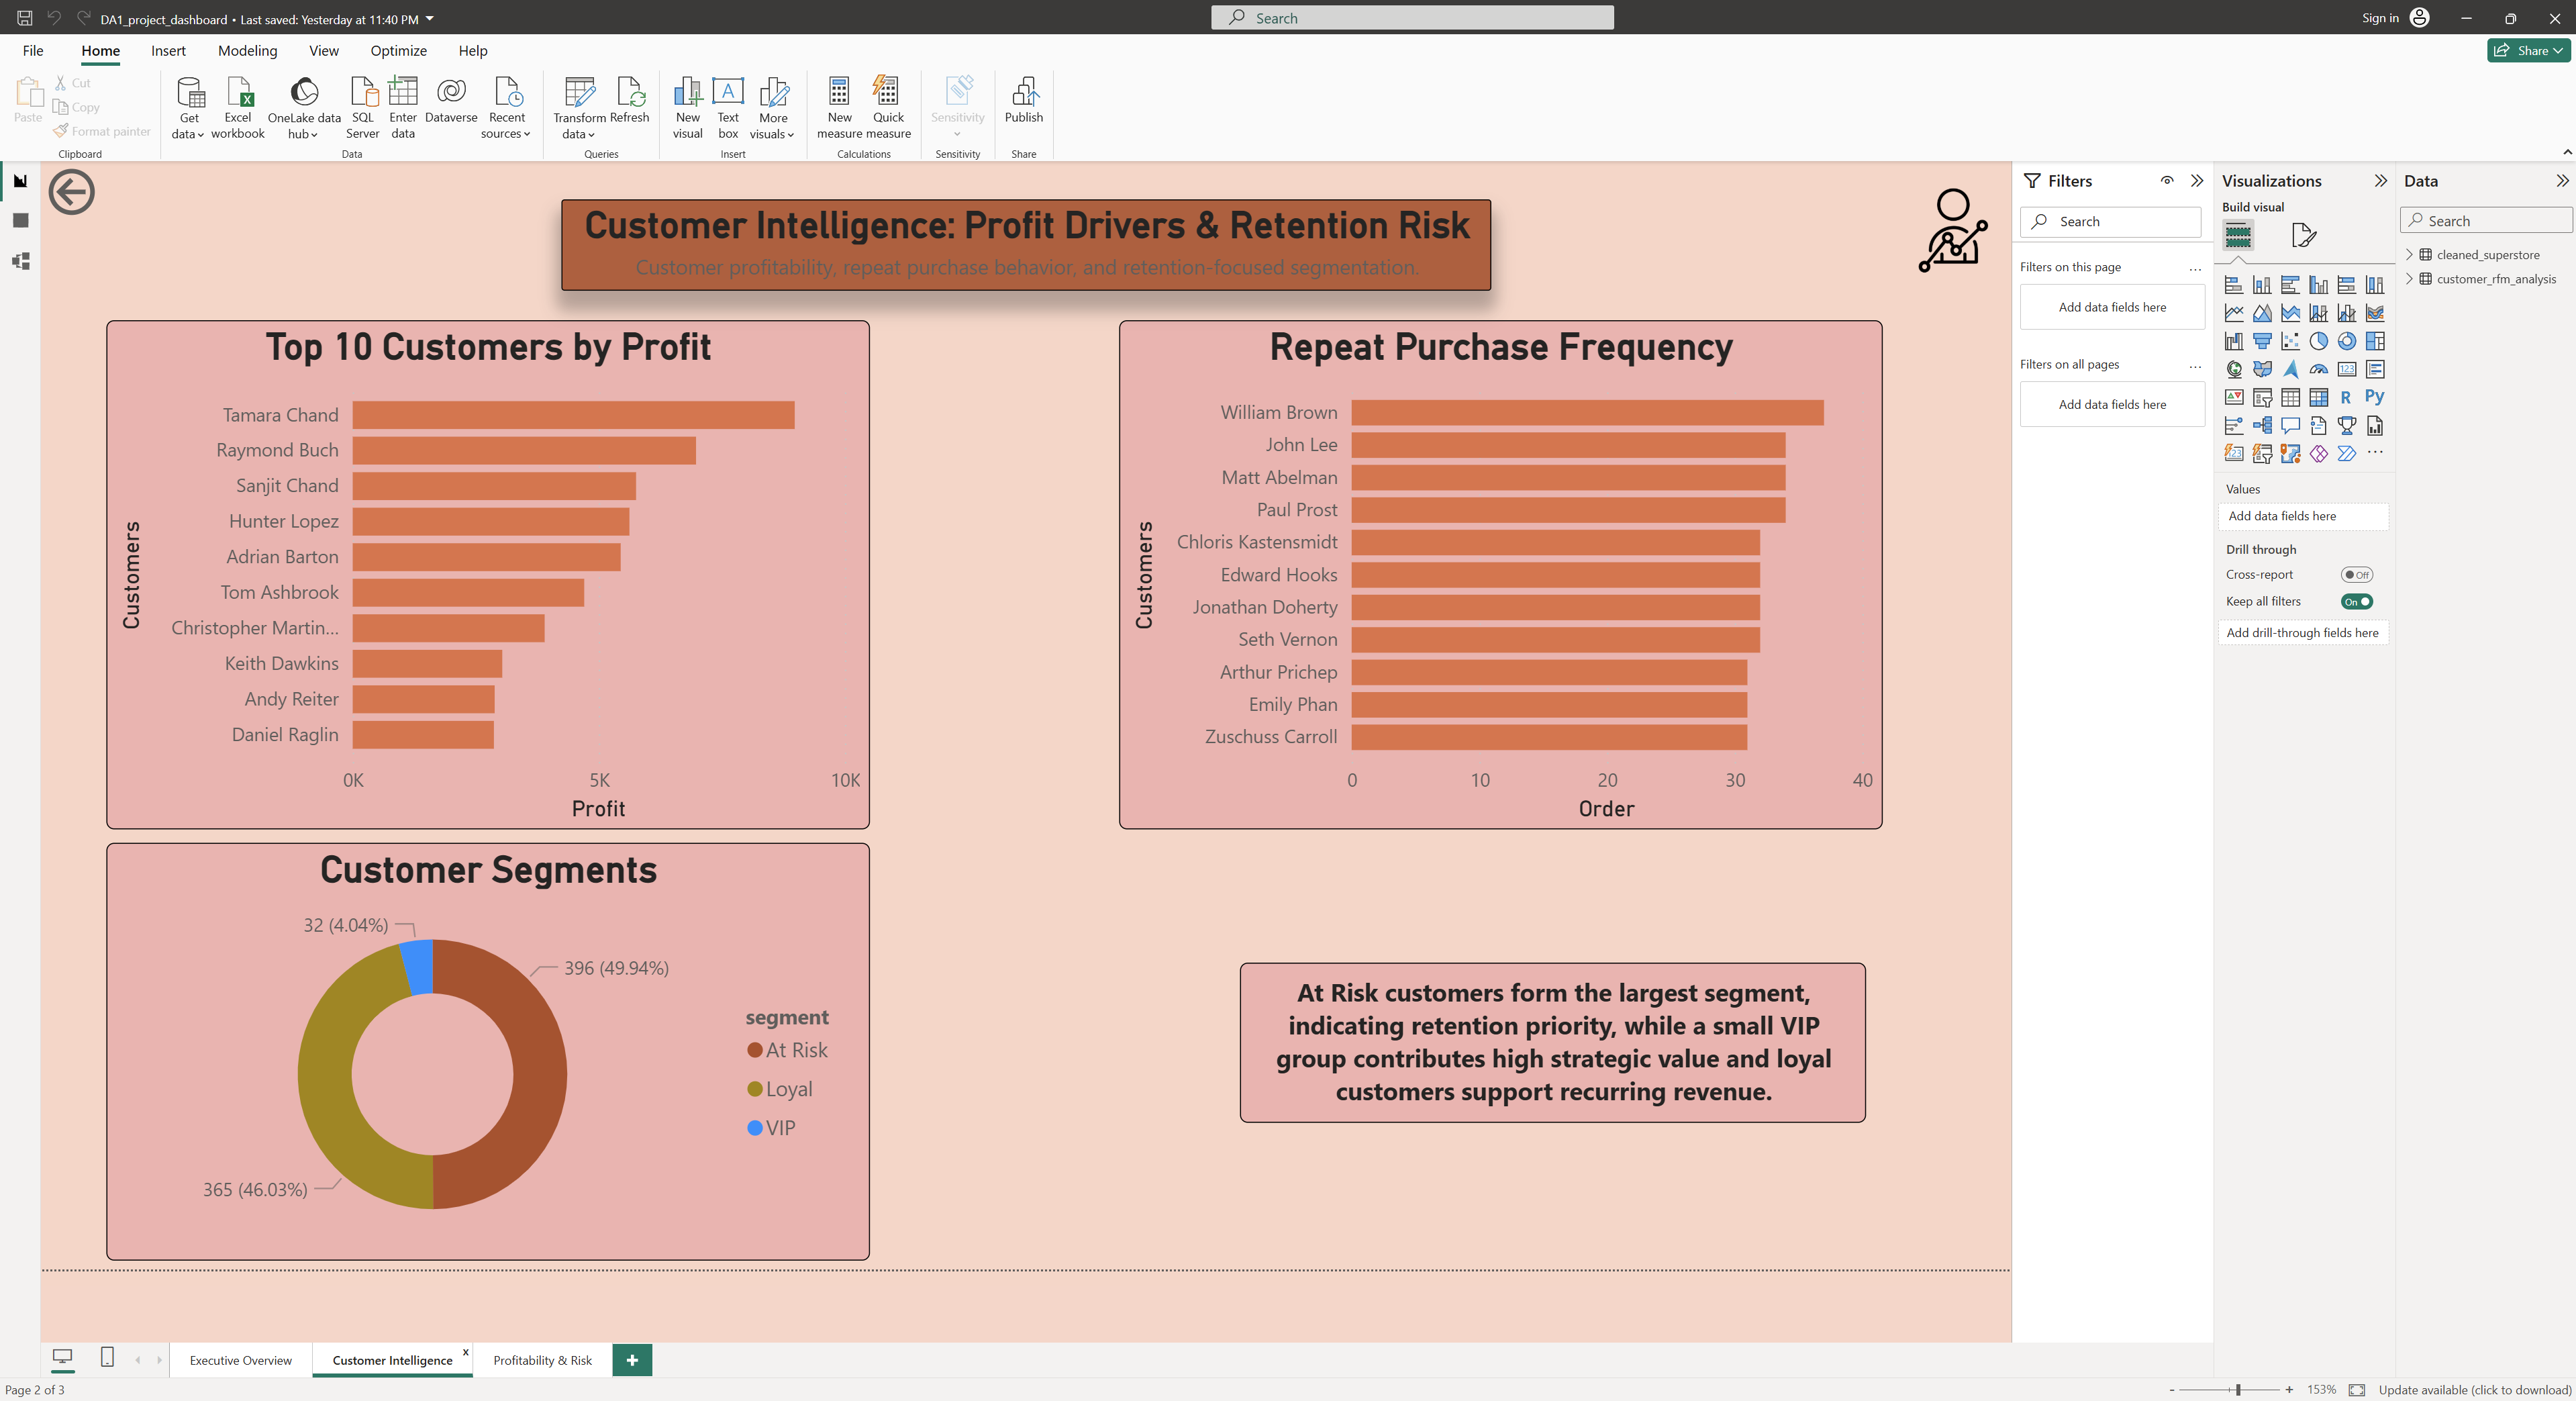

What the dashboard file says about the page in this screenshot:
{"tool":"powerbi","page":{"name":"Customer Intelligence","canvas":[1280,720],"ordinal":1},"visuals":[{"type":"clusteredBarChart","title":"Top 10  Customers by Profit","fields":{"Category":["cleaned_superstore.customer_name"],"Y":["Sum(cleaned_superstore.profit)"]},"box":[42.5,103.3,495.7,330.9],"z":0},{"type":"clusteredBarChart","title":"Repeat Purchase Frequency","fields":{"Category":["cleaned_superstore.customer_name"],"Y":["CountNonNull(cleaned_superstore.order_id)"]},"box":[700.4,103.3,495.7,330.9],"z":1000},{"type":"donutChart","title":"Customer Segments","fields":{"Category":["customer_rfm_analysis.segment"],"Y":["CountNonNull(customer_rfm_analysis.customer_name)"]},"box":[42.5,442.7,495.7,271.4],"z":2000},{"type":"textbox","box":[778.9,520.5,406.8,104],"z":3000},{"type":"image","box":[1204.6,0,75.2,89.6],"z":4000},{"type":"actionButton","box":[0,0,100,40],"z":5000},{"type":"textbox","title":"Customer Intelligence: Profit Drivers & Retention Risk","box":[338.1,24.9,604.3,59.5],"z":5001}]}

Visuals, with their boxes on the page's 1280x720 design canvas (x1, y1, x2, y2). These are canvas units, not pixel positions in the 2576x1401 screenshot, which may show the page scaled, cropped or inside an application window:
"Top 10  Customers by Profit" clusteredBarChart: [x1=42, y1=103, x2=538, y2=434]
"Repeat Purchase Frequency" clusteredBarChart: [x1=700, y1=103, x2=1196, y2=434]
"Customer Segments" donutChart: [x1=42, y1=443, x2=538, y2=714]
textbox: [x1=779, y1=520, x2=1186, y2=624]
image: [x1=1205, y1=0, x2=1280, y2=90]
actionButton: [x1=0, y1=0, x2=100, y2=40]
"Customer Intelligence: Profit Drivers & Retention Risk" textbox: [x1=338, y1=25, x2=942, y2=84]
